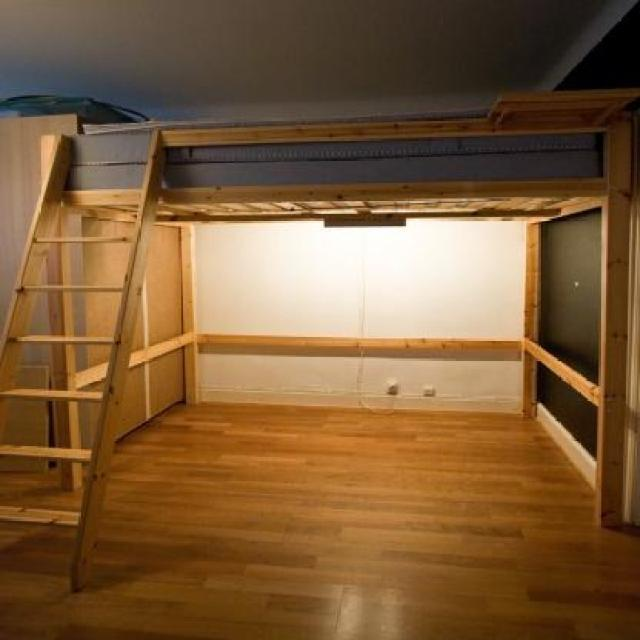stair: (0, 235, 132, 530)
